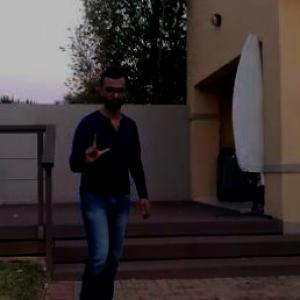land_hand: (77, 127, 115, 171)
